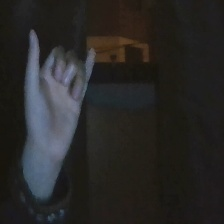Y: (8, 22, 100, 167)
